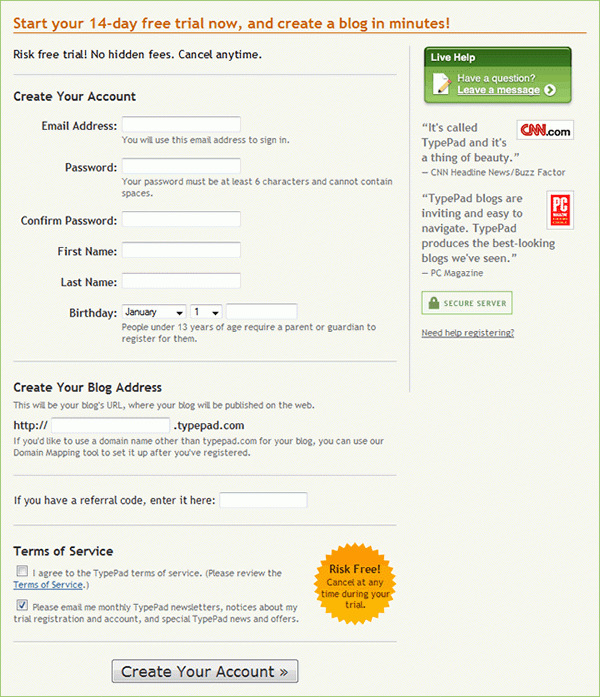_form_: (5, 9, 320, 342), (1, 354, 315, 688)
button: (110, 659, 299, 683)
checkbox: (14, 598, 32, 612), (14, 563, 30, 578)
checkbox_with_label: (12, 561, 285, 580), (12, 597, 299, 614)
field: (117, 156, 241, 175), (117, 271, 243, 289), (120, 116, 243, 134), (118, 210, 242, 227), (117, 241, 241, 258), (49, 417, 172, 433), (217, 492, 309, 510), (224, 303, 299, 320)
field_with_label: (14, 491, 312, 511), (40, 113, 246, 135), (20, 208, 243, 228), (66, 154, 243, 176), (59, 239, 243, 260), (62, 269, 245, 290), (14, 416, 174, 435), (69, 302, 187, 321)
select: (122, 303, 187, 320), (189, 304, 223, 320)
